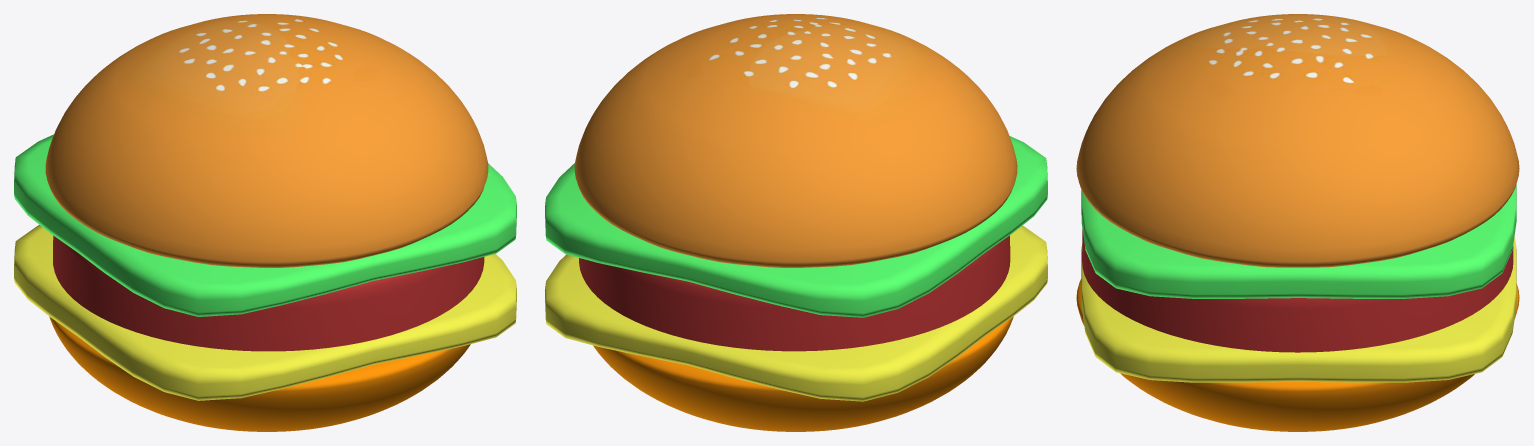
The model's file is hanbao.fbx.
The picture shows the model from 3 angles, left to right: view 1: azimuth 30°, elevation 25°; view 2: azimuth 150°, elevation 25°; view 3: azimuth 270°, elevation 25°; orthographic projection.
Parts seen in each view (by area): view 1: group3; view 2: group3; view 3: group3.
Boxes of the visible parts, <box> form: group3: <box>14,14,516,431</box>; group3: <box>545,14,1047,431</box>; group3: <box>1076,14,1519,431</box>.
Size of the model in its own units: 2.5 by 2.22 by 2.5.
Materials: 5 (1 with a texture image).
